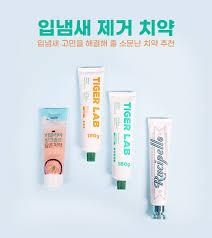toothpaste: (148, 118, 180, 220), (73, 63, 105, 163), (37, 103, 68, 184), (108, 88, 131, 194)
